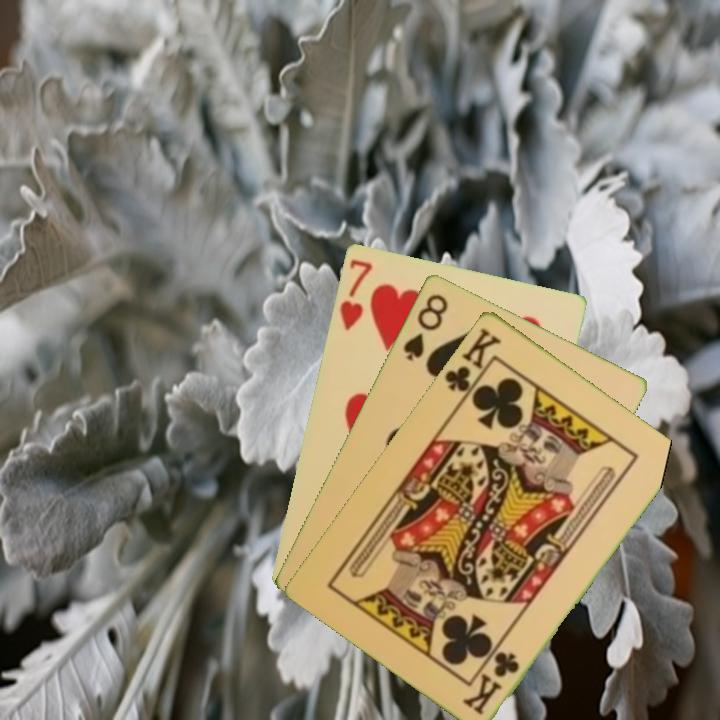7h: (336, 255, 375, 333)
8s: (399, 289, 451, 363)
Kc: (440, 323, 504, 404), (460, 646, 523, 718)
